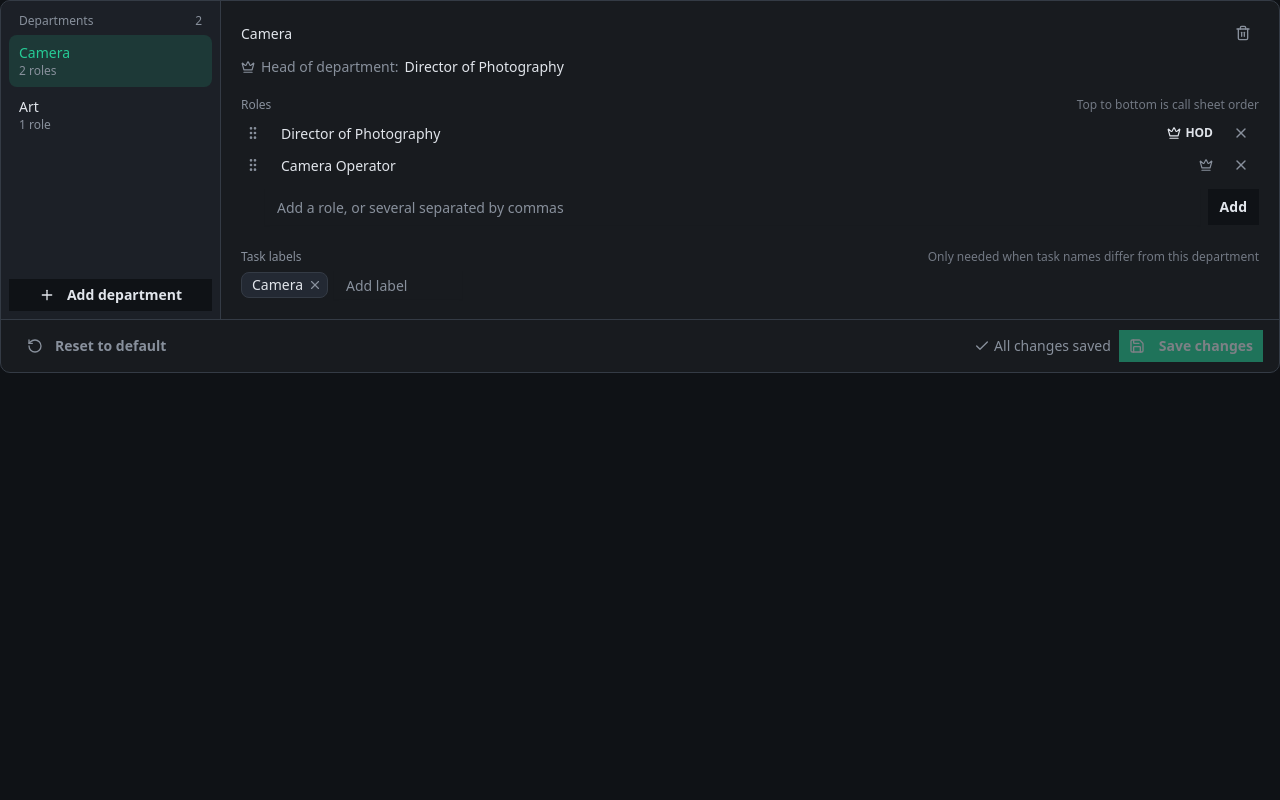
Test: CrewStructureEditor › only deletes a department after the user clicks Confirm
Expected: the field named "Department name" is shown, [233,13,1219,53]
Click the button named "Delete department" at [1243, 33], box [1227,17,1259,49]
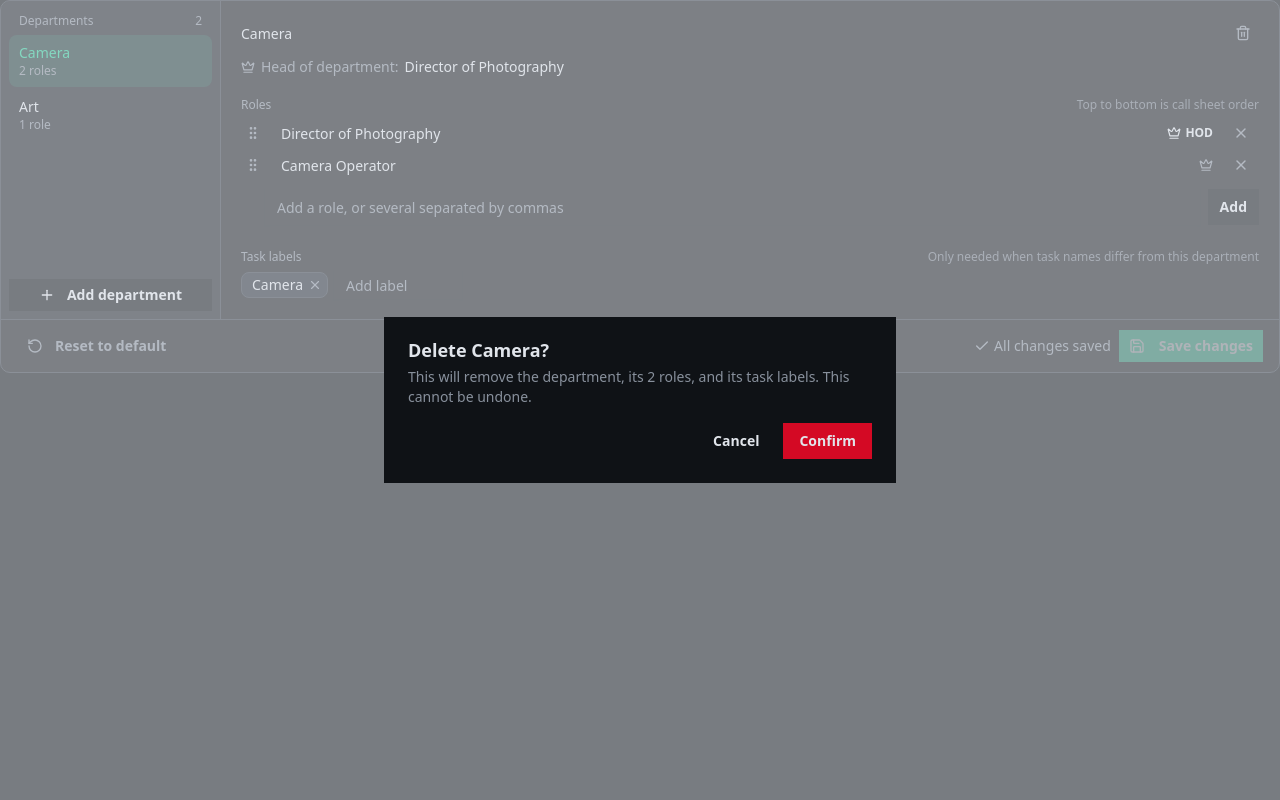
Expected: the button "Camera 2 roles" is shown, [9,35,212,87]
Result: the heading "Delete Camera?" is shown at [408,338,549,362]
Result: the text "This cannot be undone" is shown at [408,367,850,406]
Click the button "Confirm" at [828, 441], box [783,423,872,459]
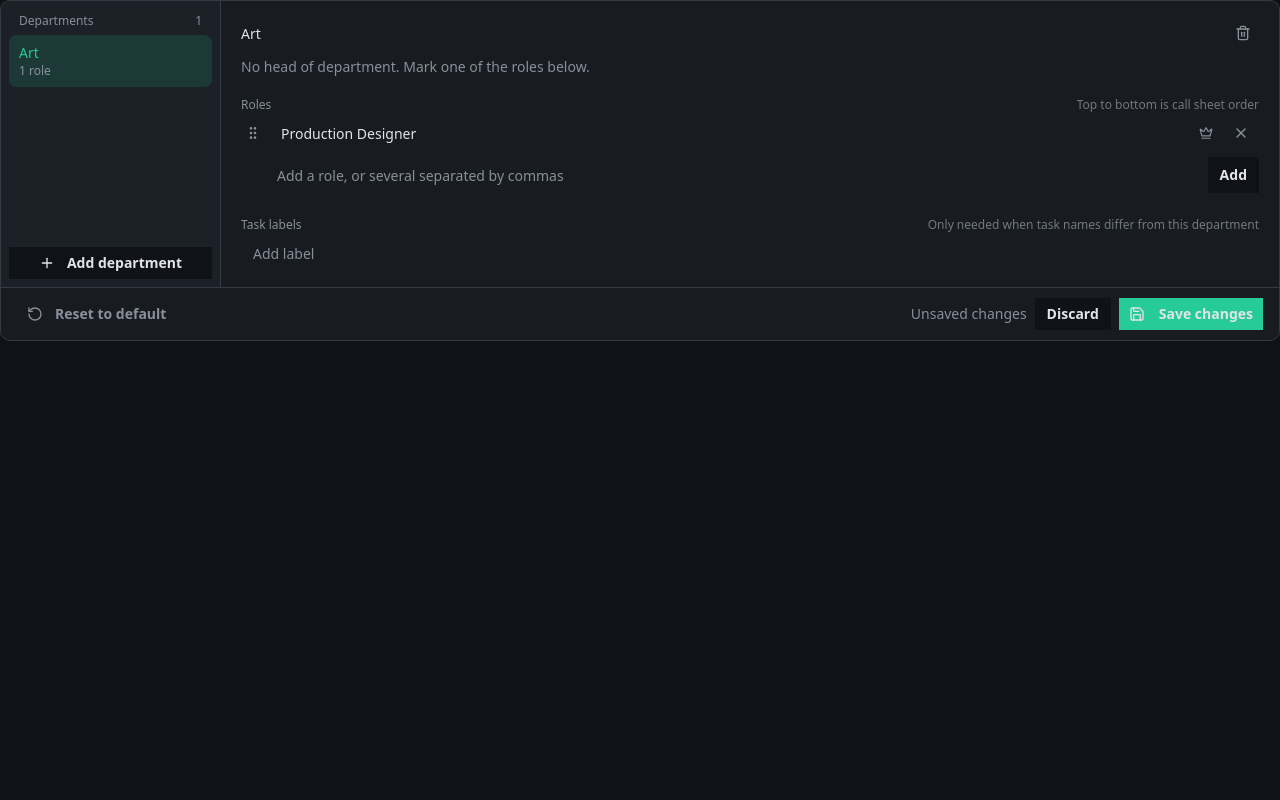
Expected: the button "Art 1 role" is shown, [9,35,212,87]
Result: the dialog is gone
